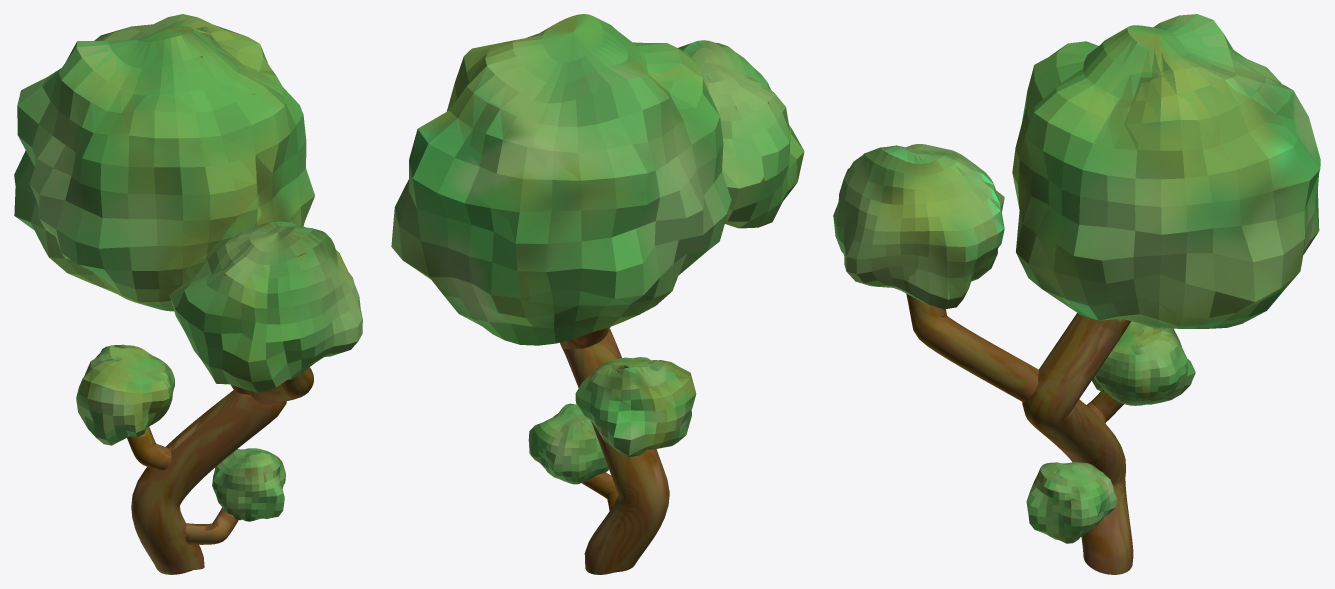
Rendered from basic_bitch_tree.glb.
The picture shows the model from 3 angles, left to right: view 1: azimuth 30°, elevation 25°; view 2: azimuth 150°, elevation 25°; view 3: azimuth 270°, elevation 25°; orthographic projection. The views are drawn at different scales.
Visible parts, largest first — view 1: BezierCurve.002; view 2: BezierCurve.002; view 3: BezierCurve.002.
Part boxes in pixels (box(x1,y1,x2,y2)): BezierCurve.002: box(14, 14, 362, 574); BezierCurve.002: box(391, 14, 804, 574); BezierCurve.002: box(833, 14, 1320, 574).
Bounding box in the file's own units: 33.47 × 67.47 × 55.02.
1 material, 1 textured.
